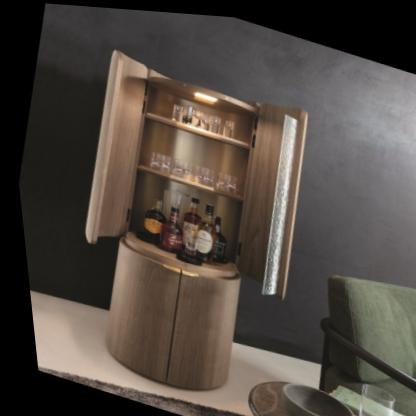Cupboard: (80, 50, 303, 391)
